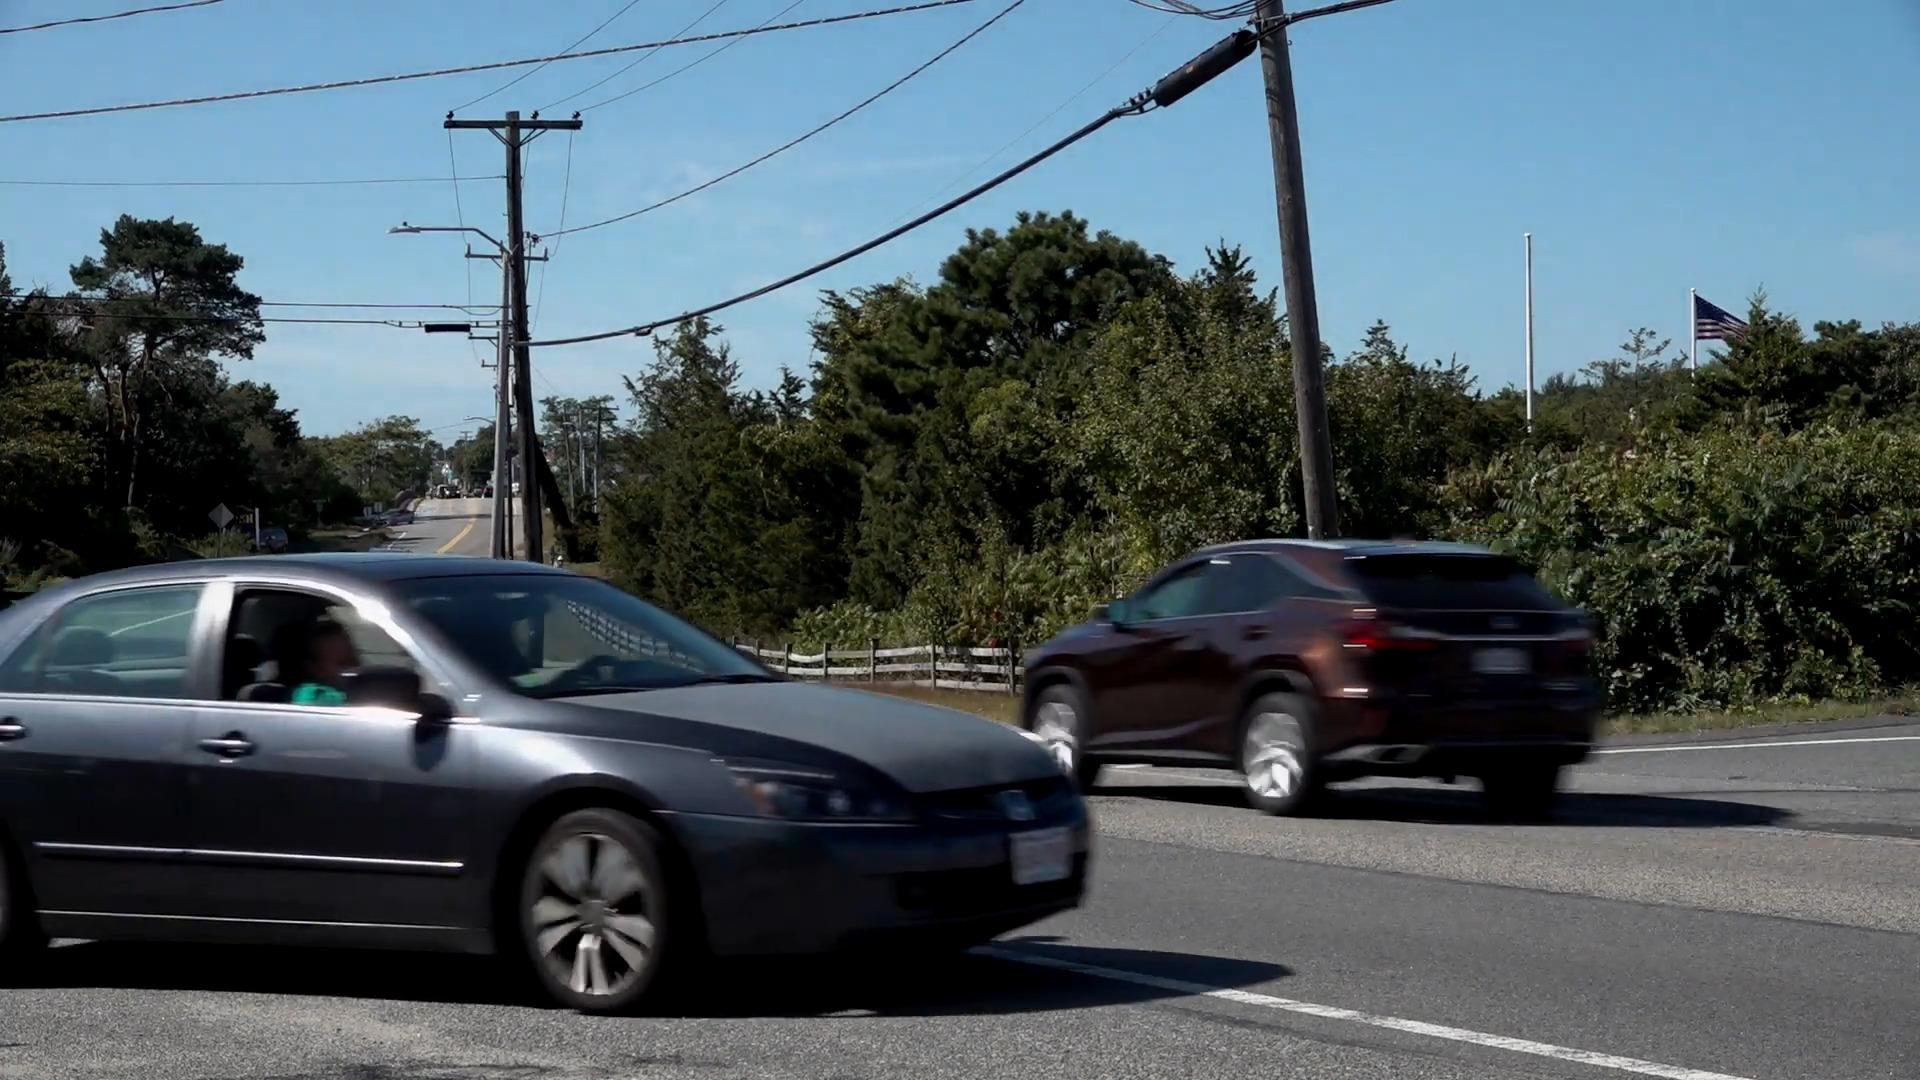sedans: (0, 551, 1091, 1015)
suv: (1021, 535, 1600, 815)
